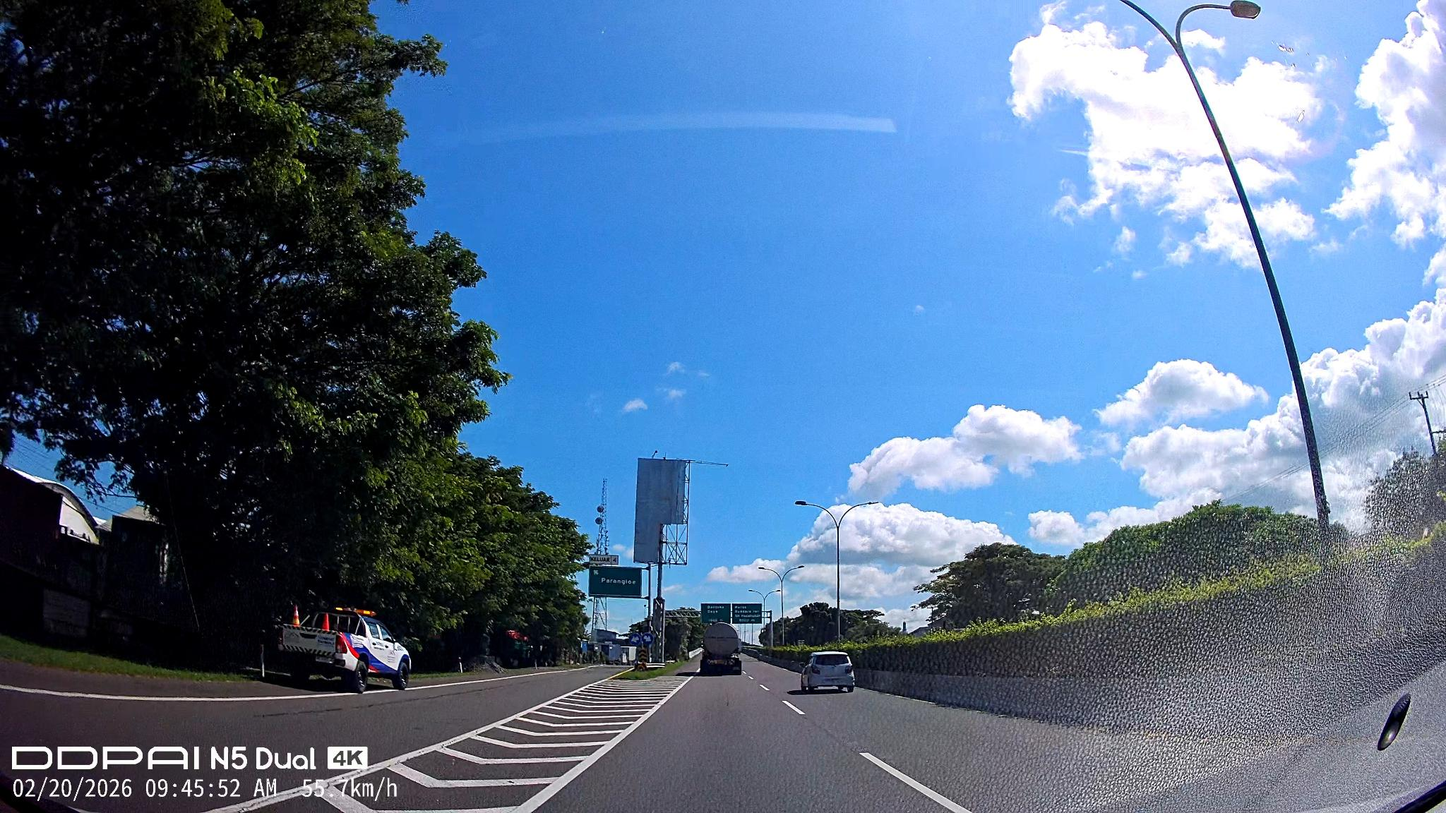rambu_teks: (589, 565, 644, 599)
